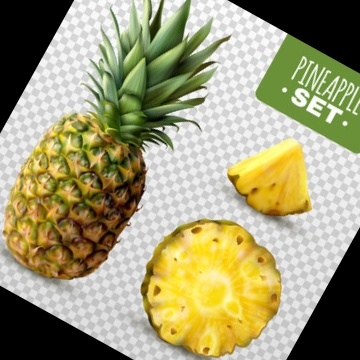Pineapple: (1, 1, 228, 283)
